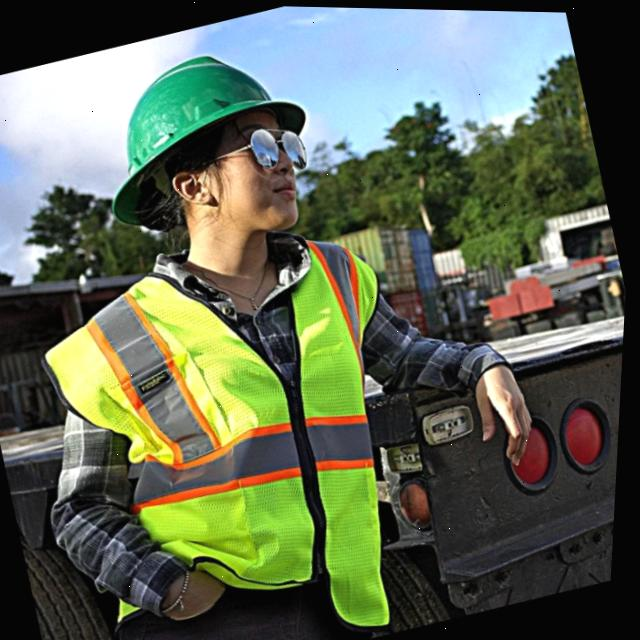helmet: (82, 31, 303, 201)
vest: (26, 218, 440, 640)
